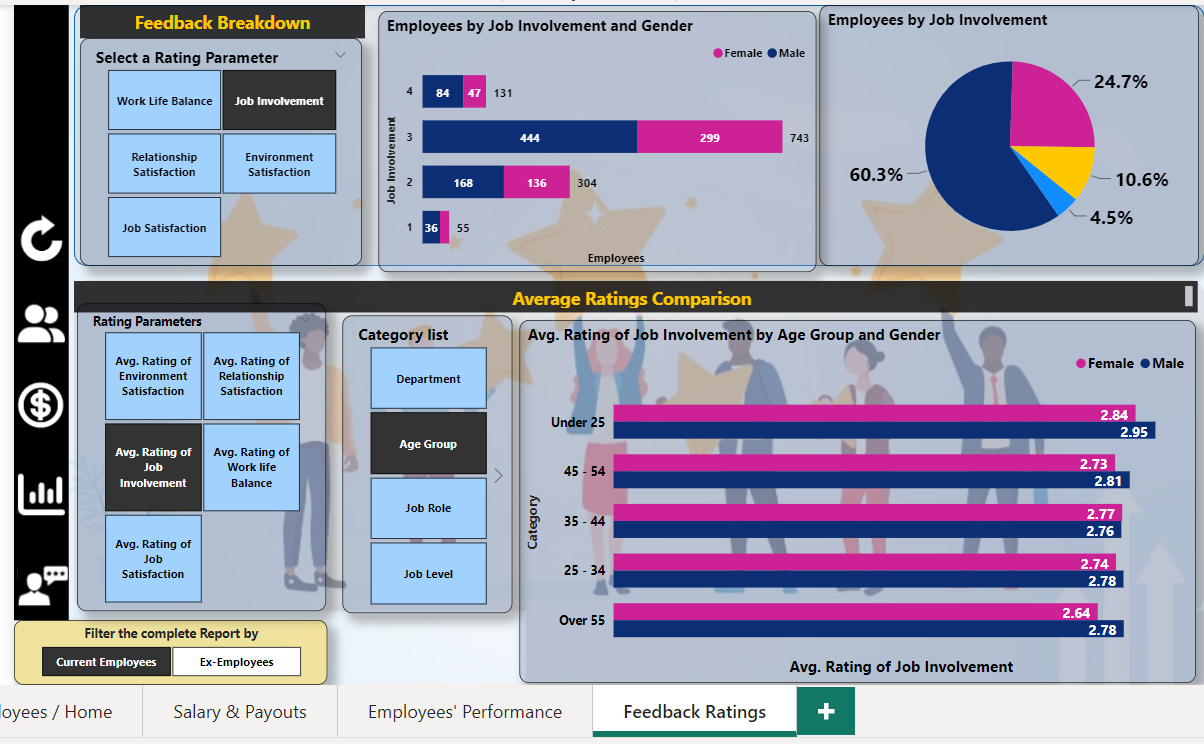

The dashboard page shown, as its layout file describes it:
{"tool":"powerbi","page":{"name":"Feedback Ratings","canvas":[1280,720],"ordinal":3},"visuals":[{"type":"shape","box":[0,0,58.2,652],"z":0,"group":"g4"},{"type":"shape","box":[62,3.2,1198.3,276.7],"z":0,"group":"g3"},{"type":"slicer","fields":{"Values":["Set of Rating Matrices.Set of Rating Matrices"]},"box":[68.8,38.1,298.8,241.6],"z":0,"group":"g2"},{"type":"actionButton","box":[0,215.2,58.2,64.7],"z":0,"group":"g1"},{"type":"slicer","title":"Filter the complete Report by","fields":{"Values":["Employees.attrition label"]},"box":[0,651.7,331.7,68.3],"z":0},{"type":"textbox","box":[68.6,3.2,301.7,35],"z":1000,"group":"g3"},{"type":"pieChart","fields":{"Category":["Ratings.Work Life Balance (Rating)"],"Y":["Measures Table.#1 Total Employees"]},"box":[862.2,15,400.5,271.8],"z":1000,"group":"g2"},{"type":"group","id":"g1","title":"Group 6","box":[0,215.2,69.6,432],"z":1000,"group":"g4"},{"type":"actionButton","box":[0,309,58.2,58.2],"z":1000,"group":"g1"},{"type":"shape","box":[542.3,642.6,720,76.7],"z":1000,"group":"g5"},{"type":"group","id":"g2","title":"Group 1","box":[68.8,9.2,1193.9,277.6],"z":2000,"group":"g3"},{"type":"barChart","fields":{"Category":["Ratings.Work Life Balance (Rating)"],"Y":["Measures Table.#1 Total Employees"],"Series":["Employees.Gender"]},"box":[385.4,9.2,464.1,276.6],"z":2000,"group":"g2"},{"type":"shape","box":[64,290.9,1198.3,351.7],"z":2000,"group":"g5"},{"type":"actionButton","box":[0,396.4,58.2,56.6],"z":2000,"group":"g1"},{"type":"actionButton","box":[0,482.2,58.2,74.4],"z":3000,"group":"g1"},{"type":"group","id":"g3","title":"Feedback Breakdown","box":[62,3.2,1200.8,283.6],"z":4000},{"type":"actionButton","box":[0,585.7,69.6,61.5],"z":4000,"group":"g1"},{"type":"slicer","fields":{"Values":["#Parameter- Avg Ratings.#Parameter- Avg Ratings"]},"box":[66.7,316.2,263.8,325.8],"z":5000,"group":"g5"},{"type":"group","id":"g4","title":"Navigation Bar #group","box":[0,0,69.6,652],"z":6000},{"type":"slicer","fields":{"Values":["#Parameter- Category list.#Parameter- Category list"]},"box":[347.2,334,181.2,376.7],"z":7000,"group":"g5"},{"type":"clusteredBarChart","fields":{"Category":["Employees.Department"],"Y":["Measures Table.**Rating avg- Environment Satisfaction"],"Series":["Employees.Gender"]},"box":[542,329,720,389.4],"z":8000,"group":"g5"},{"type":"textbox","box":[63.6,292.3,1190.5,33],"z":9000,"group":"g5"},{"type":"group","id":"g5","title":"Group 2","box":[63.6,290.9,1198.7,428.3],"z":9001}]}

Visuals, with their boxes on the page's 1280x720 design canvas (x1, y1, x2, y2). These are canvas units, not pixel positions in the 1204x744 screenshot, which may show the page scaled, cropped or inside an application window:
shape: (x1=0, y1=0, x2=58, y2=652)
shape: (x1=62, y1=3, x2=1260, y2=280)
slicer - Set of Rating Matrices.Set of Rating Matrices: (x1=69, y1=38, x2=368, y2=280)
actionButton: (x1=0, y1=215, x2=58, y2=280)
"Filter the complete Report by" slicer: (x1=0, y1=652, x2=332, y2=720)
textbox: (x1=69, y1=3, x2=370, y2=38)
pieChart - Ratings.Work Life Balance (Rating) x Measures Table.#1 Total Employees: (x1=862, y1=15, x2=1263, y2=287)
"Group 6" group: (x1=0, y1=215, x2=70, y2=647)
actionButton: (x1=0, y1=309, x2=58, y2=367)
shape: (x1=542, y1=643, x2=1262, y2=719)
"Group 1" group: (x1=69, y1=9, x2=1263, y2=287)
barChart - Ratings.Work Life Balance (Rating) x Measures Table.#1 Total Employees: (x1=385, y1=9, x2=850, y2=286)
shape: (x1=64, y1=291, x2=1262, y2=643)
actionButton: (x1=0, y1=396, x2=58, y2=453)
actionButton: (x1=0, y1=482, x2=58, y2=557)
"Feedback Breakdown" group: (x1=62, y1=3, x2=1263, y2=287)
actionButton: (x1=0, y1=586, x2=70, y2=647)
slicer - #Parameter- Avg Ratings.#Parameter- Avg Ratings: (x1=67, y1=316, x2=330, y2=642)
"Navigation Bar #group" group: (x1=0, y1=0, x2=70, y2=652)
slicer - #Parameter- Category list.#Parameter- Category list: (x1=347, y1=334, x2=528, y2=711)
clusteredBarChart - Employees.Department x Measures Table.**Rating avg- Environment Satisfaction: (x1=542, y1=329, x2=1262, y2=718)
textbox: (x1=64, y1=292, x2=1254, y2=325)
"Group 2" group: (x1=64, y1=291, x2=1262, y2=719)
